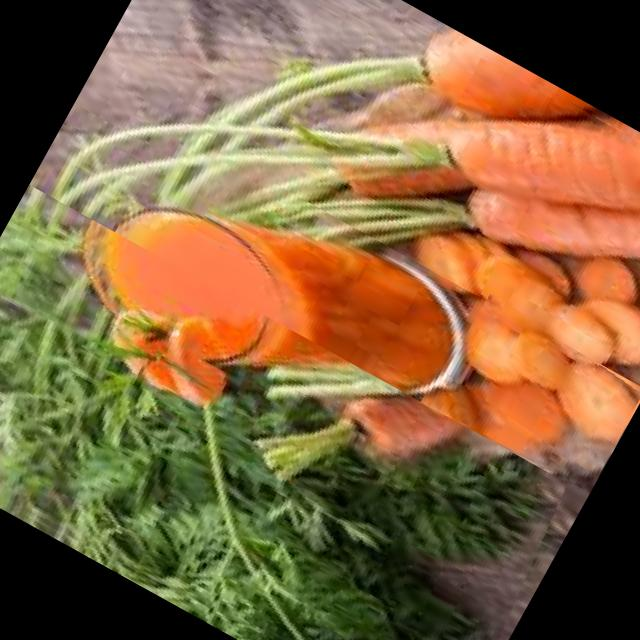Organic: (0, 184, 589, 640), (198, 0, 640, 389), (429, 289, 640, 492)
